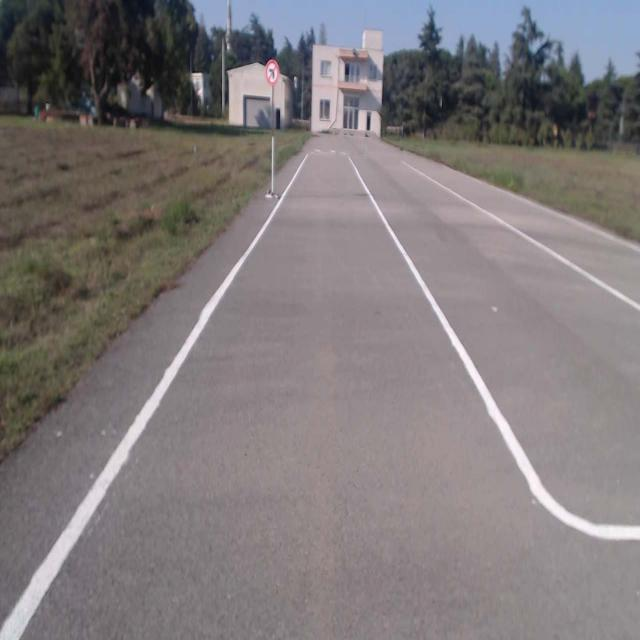soladonulmez: (265, 60, 279, 85)
